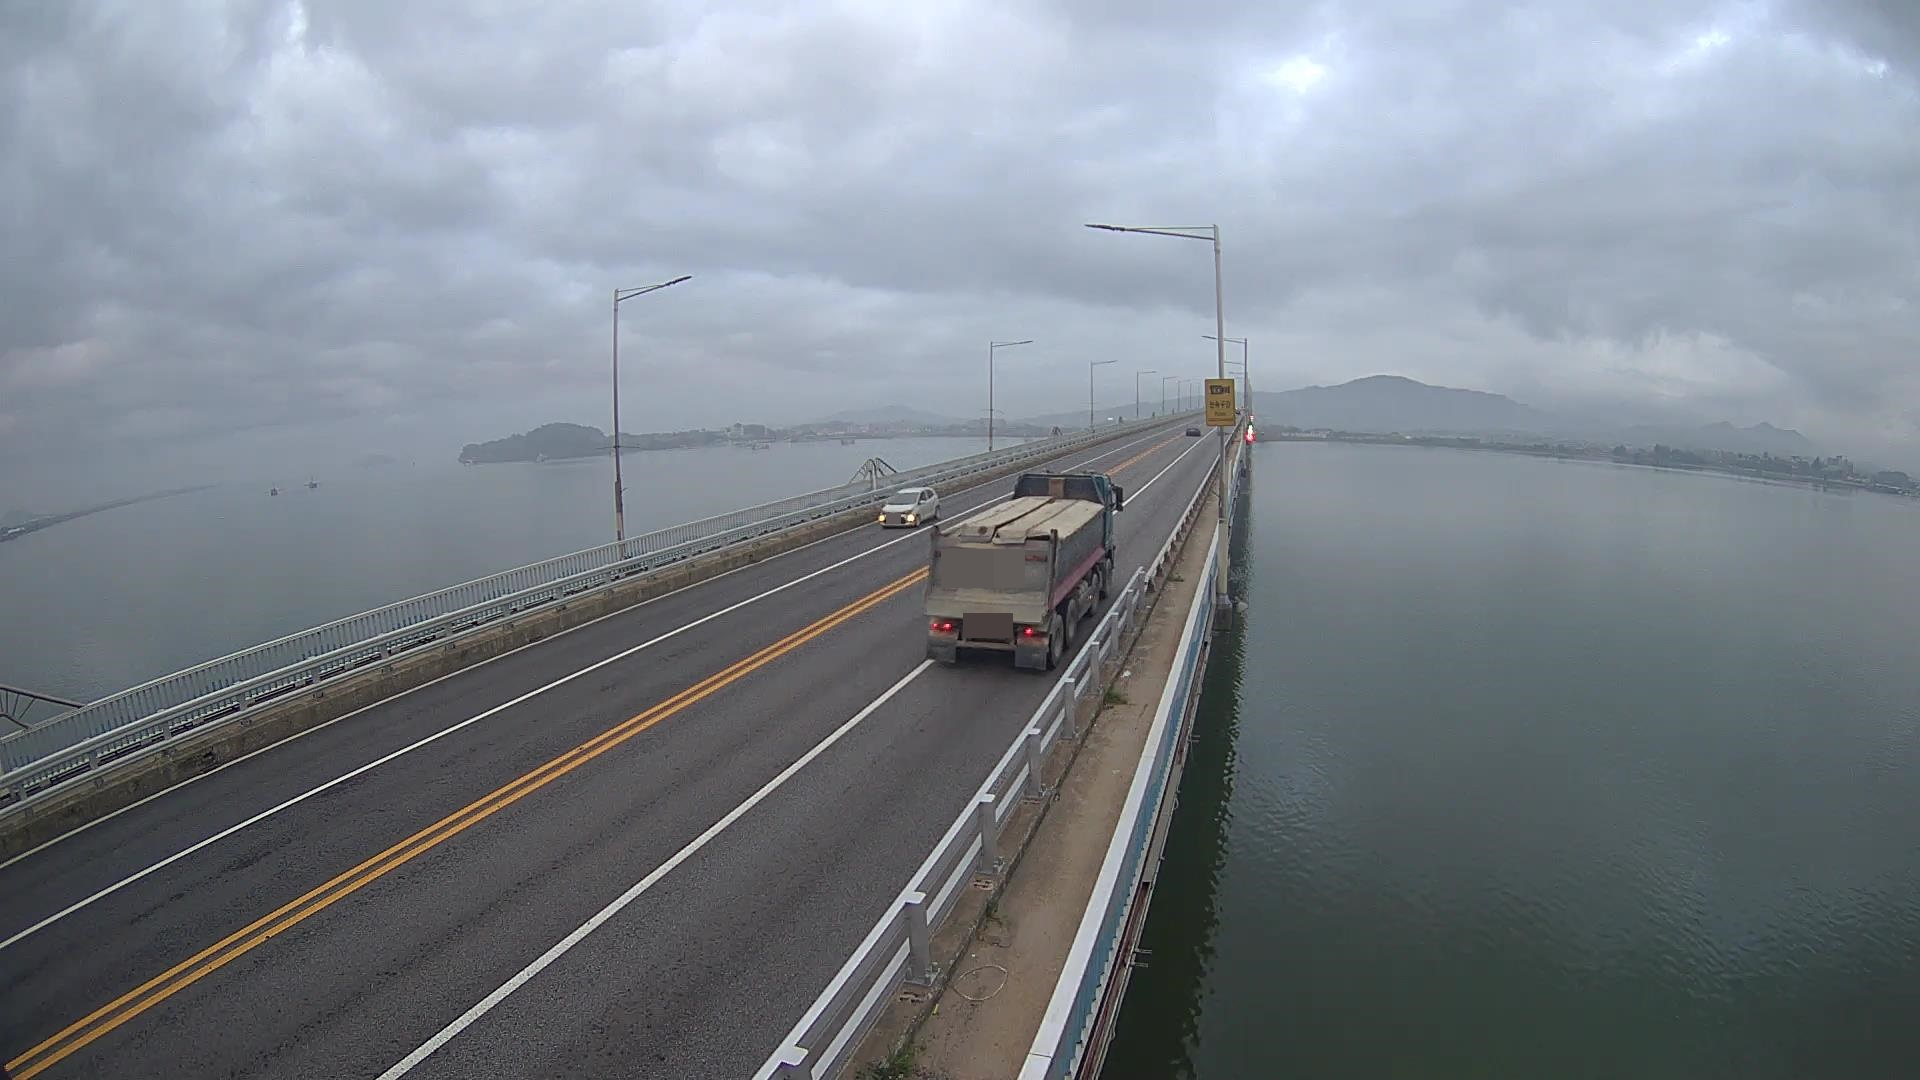정상차량: (922, 469, 1124, 671)
